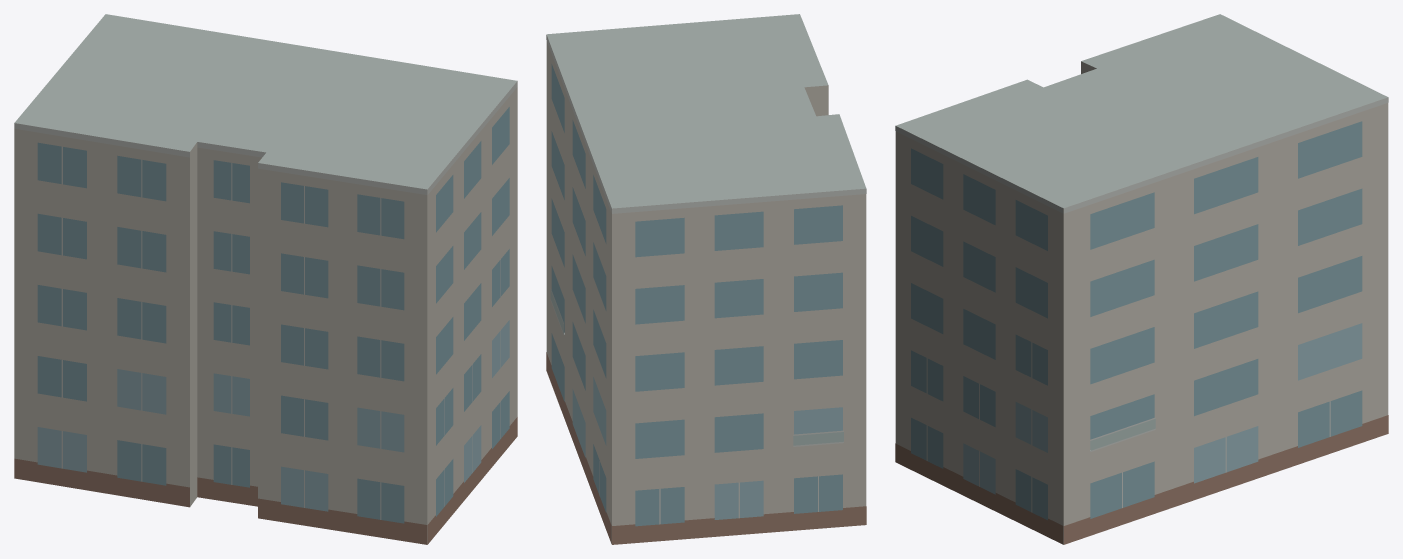
The model's file is survey-upis-32958187.glb.
3 views of the same model, side by side, from view 1: azimuth 30°, elevation 25°; view 2: azimuth 150°, elevation 25°; view 3: azimuth 270°, elevation 25° (orthographic). The views are drawn at different scales.
Visible parts, largest first — view 1: survey-upis-32958187.tmp; view 2: survey-upis-32958187.tmp; view 3: survey-upis-32958187.tmp.
Part boxes in pixels (x1,y1,x2,y2): survey-upis-32958187.tmp: (14, 14, 517, 544); survey-upis-32958187.tmp: (546, 14, 866, 544); survey-upis-32958187.tmp: (895, 14, 1388, 544).
Size of the model in its own units: 18.84 by 15.2 by 20.19.
